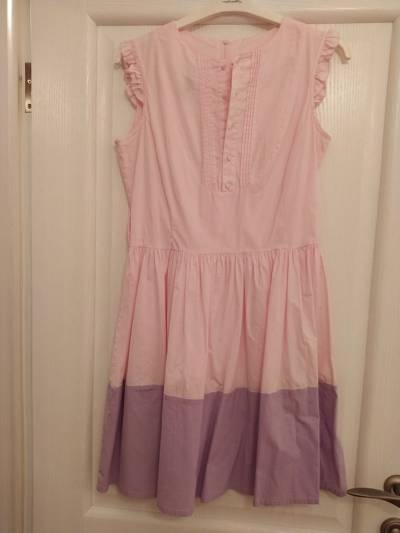Dress: (73, 25, 370, 499)
